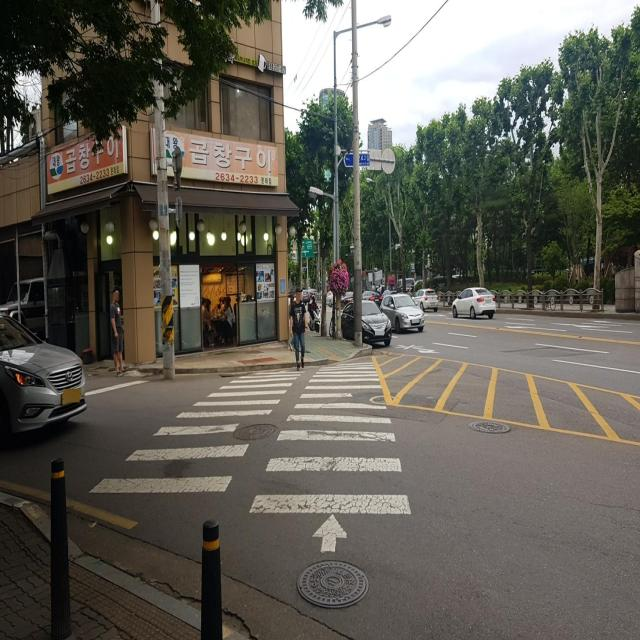횡단보도: (87, 357, 414, 558)
